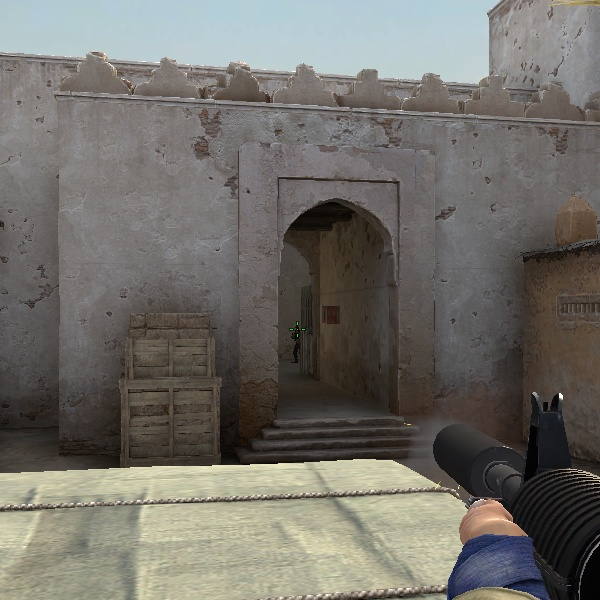ct_body: (292, 326, 301, 365)
